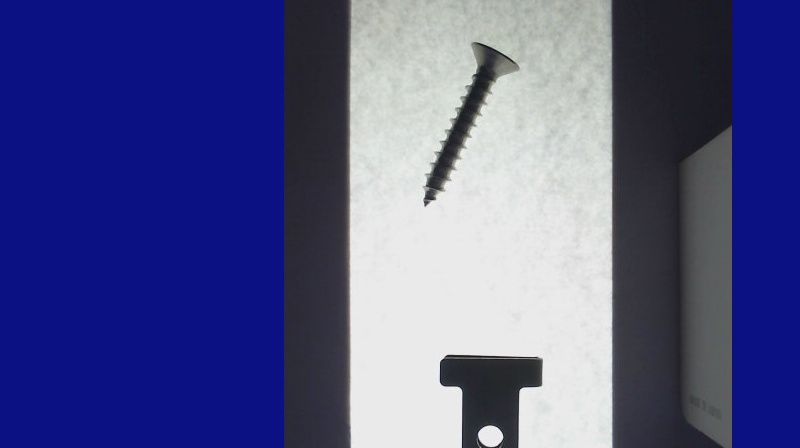O002: (435, 351, 544, 447)
S001: (422, 40, 518, 206)
